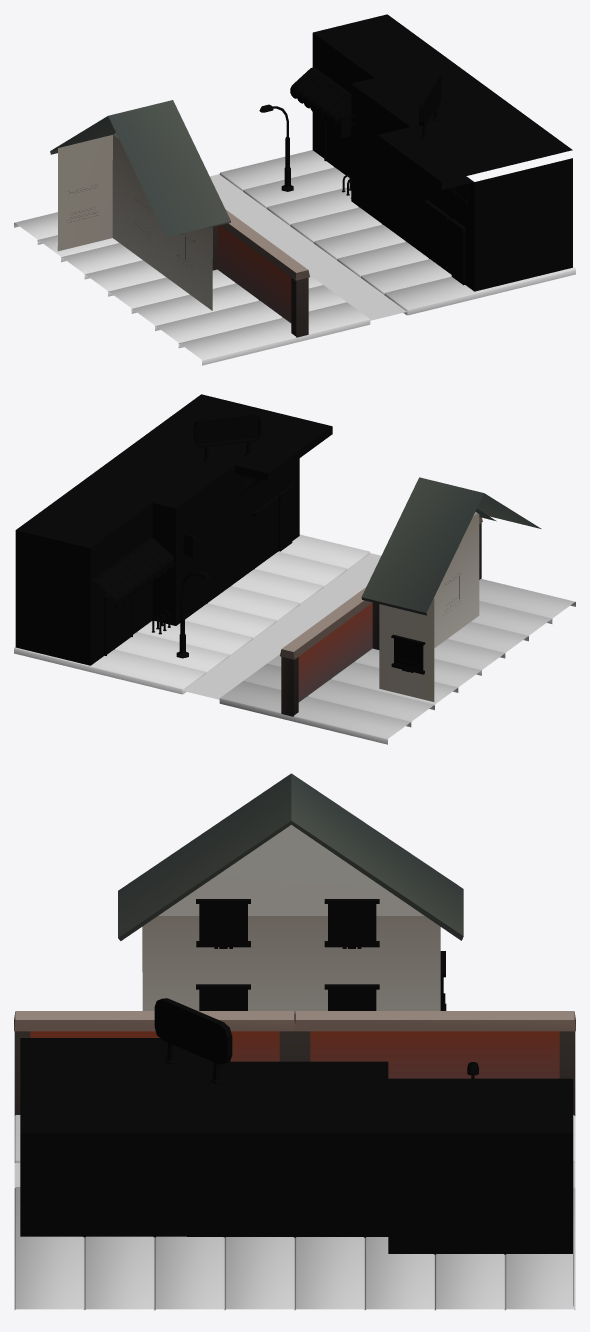
The model's file is SM_ER_module10.fbx.
3 renders of one model, top to bottom at view 1: azimuth 30°, elevation 25°; view 2: azimuth 150°, elevation 25°; view 3: azimuth 270°, elevation 25°, orthographic. The views are drawn at different scales.
Visible parts, largest first — view 1: SM_ER_module10_walls, SM_ER_floor1, SM_ER_floor; view 2: SM_ER_module10_walls, SM_ER_floor, SM_ER_floor1; view 3: SM_ER_module10_walls, SM_ER_floor1, SM_ER_floor.
Part boxes in pixels (box(x1,y1,x2,y2)): SM_ER_module10_walls: box(50, 14, 572, 337); SM_ER_floor1: box(108, 224, 575, 365); SM_ER_floor: box(14, 150, 381, 296); SM_ER_module10_walls: box(15, 394, 541, 716); SM_ER_floor: box(14, 603, 481, 744); SM_ER_floor1: box(208, 534, 575, 675); SM_ER_module10_walls: box(14, 773, 575, 1305); SM_ER_floor1: box(14, 1115, 294, 1310); SM_ER_floor: box(295, 1115, 575, 1310).
Size of the model in its own units: 4140 by 1921 by 3604.
